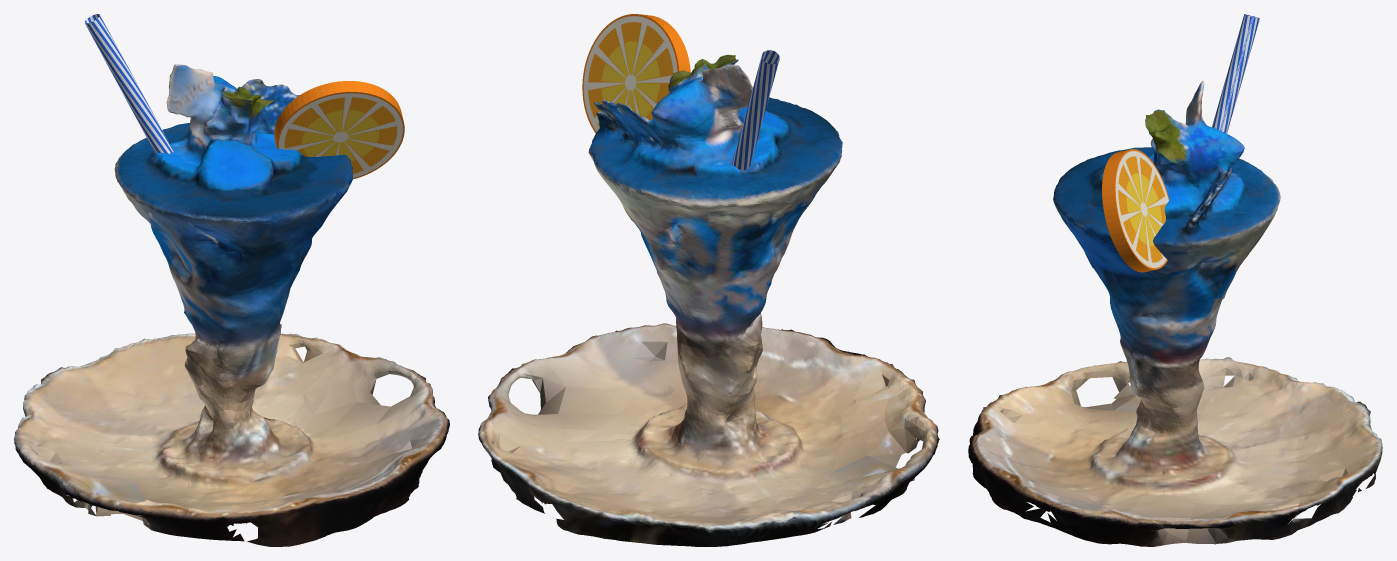
The model's file is drink-blue-lagoon-android.glb.
3 views of the same model, side by side, from view 1: azimuth 30°, elevation 25°; view 2: azimuth 150°, elevation 25°; view 3: azimuth 270°, elevation 25° (orthographic). The views are drawn at different scales.
Visible parts, largest first — view 1: glass, garnish; view 2: glass, garnish; view 3: glass, garnish.
Part boxes in pixels (left/top/right/bottom): glass: left=14, top=64, right=449, bottom=546; garnish: left=84, top=14, right=404, bottom=179; glass: left=478, top=54, right=939, bottom=546; garnish: left=582, top=14, right=779, bottom=170; glass: left=968, top=81, right=1382, bottom=546; garnish: left=1102, top=14, right=1259, bottom=272.
Bounding box in the file's own units: 0.1754 × 0.1933 × 0.1768.
2 materials, 2 textured.
